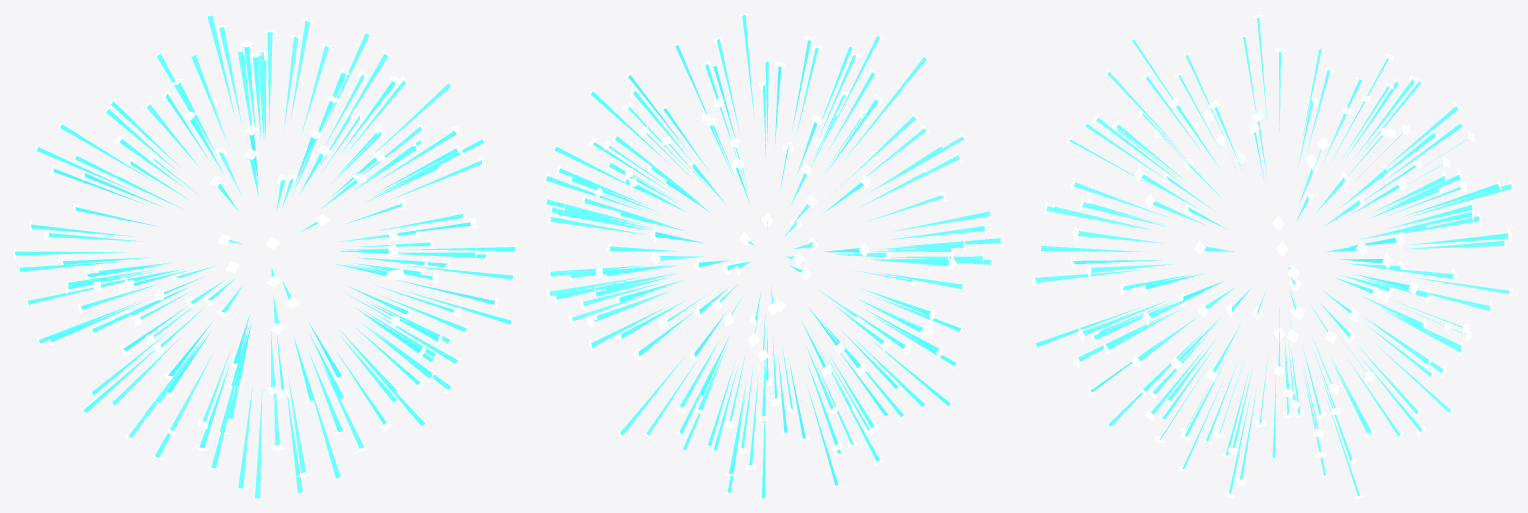
Rendered from firework_blue.glb.
The picture shows the model from 3 angles, left to right: view 1: azimuth 30°, elevation 25°; view 2: azimuth 150°, elevation 25°; view 3: azimuth 270°, elevation 25°; orthographic projection. The views are drawn at different scales.
Visible parts, largest first — view 1: main; view 2: main; view 3: main.
Boxes of the visible parts, box(x1,y1,x2,y2) form: main: box(14, 14, 515, 498); main: box(544, 14, 1003, 498); main: box(1032, 14, 1513, 498).
Size of the model in its own units: 9.51 by 9.28 by 9.08.
Materials: 1 (1 with a texture image).
